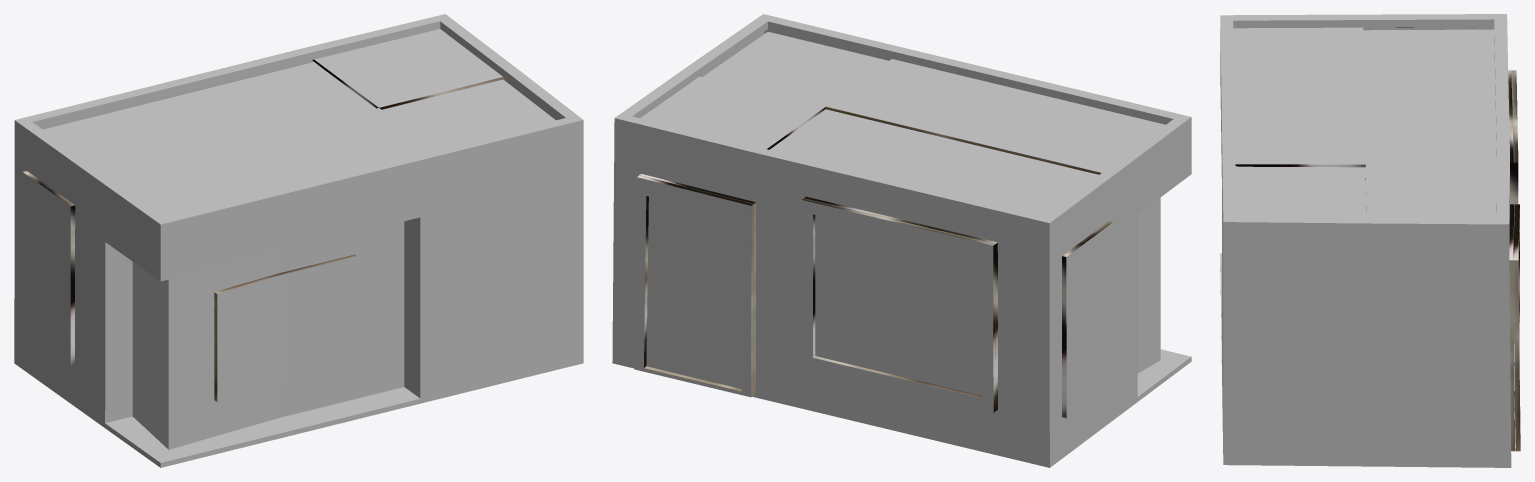
File: Shop1.fbx
3 views of the same model, side by side, from view 1: azimuth 30°, elevation 25°; view 2: azimuth 150°, elevation 25°; view 3: azimuth 270°, elevation 25° (orthographic).
Visible parts, largest first — view 1: Shop3; view 2: Shop3; view 3: Shop3.
Boxes of the visible parts, left/top/right/bottom form: Shop3: left=14, top=14, right=583, bottom=467; Shop3: left=612, top=14, right=1191, bottom=467; Shop3: left=1220, top=14, right=1520, bottom=467.
Size of the model in its own units: 1616 by 860 by 963.
